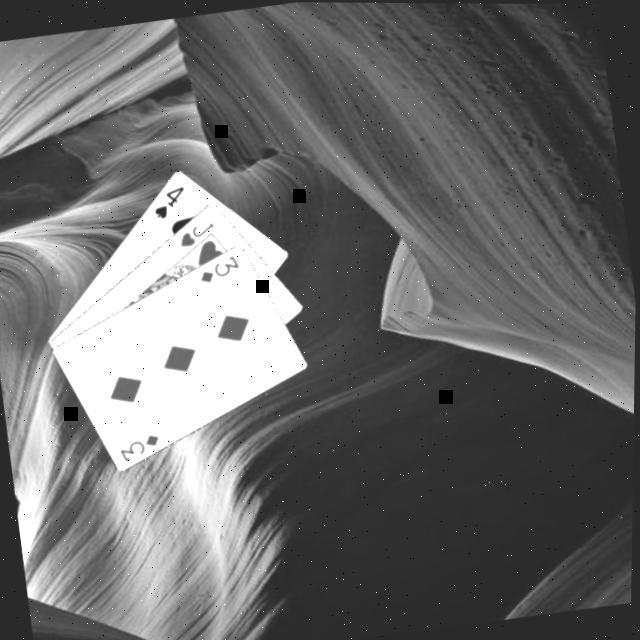3D: (193, 252, 244, 288), (114, 432, 165, 468)
4S: (146, 184, 190, 225)
JH: (174, 219, 219, 253)
